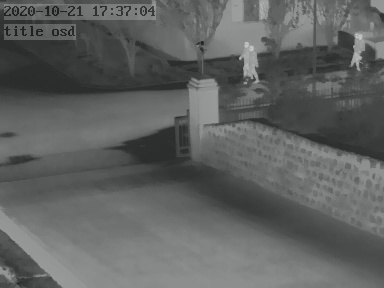person: (242, 38, 259, 86), (349, 29, 367, 69)
